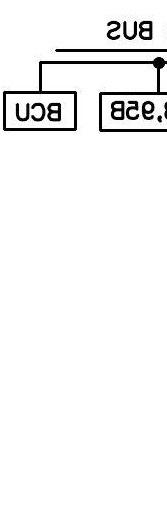BCU: (2, 90, 78, 132)
